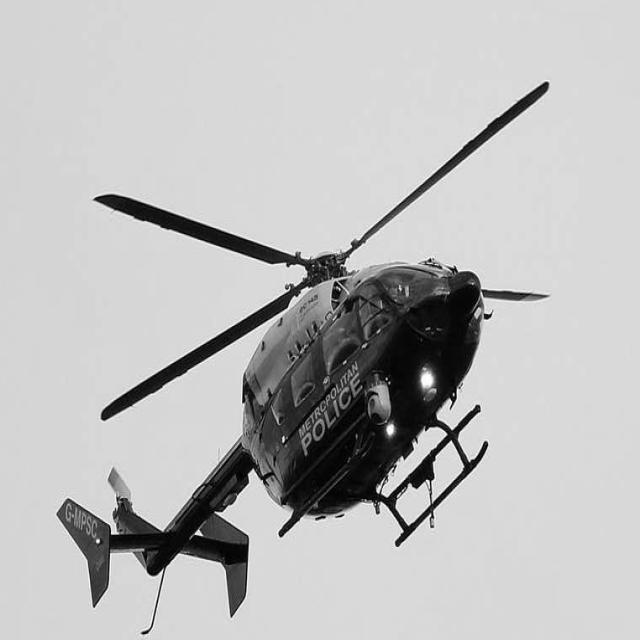helicopter: (57, 65, 556, 640)
